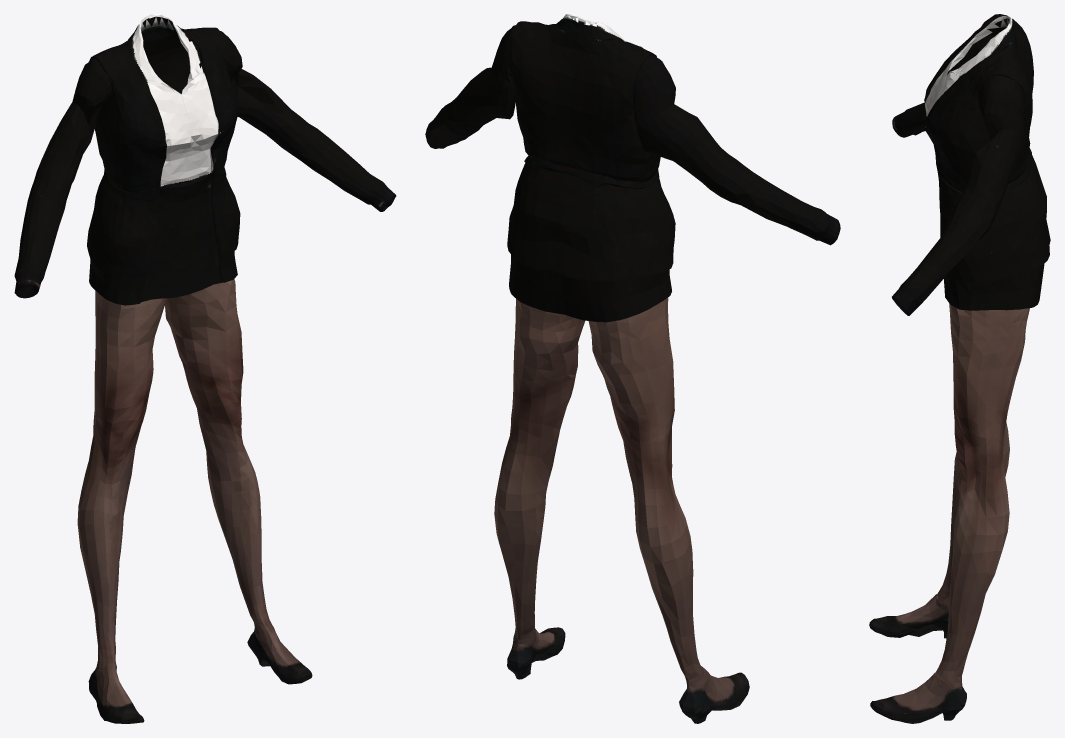
File: ewm_t2locke_outfit.glb
The picture shows the model from 3 angles, left to right: view 1: azimuth 30°, elevation 25°; view 2: azimuth 150°, elevation 25°; view 3: azimuth 270°, elevation 25°; orthographic projection. The views are drawn at different scales.
Parts seen in each view (by area): view 1: ewm_t2locke_outfit; view 2: ewm_t2locke_outfit; view 3: ewm_t2locke_outfit.
Boxes of the visible parts, x1=… form: ewm_t2locke_outfit: x1=14, y1=14, x2=396, y2=723; ewm_t2locke_outfit: x1=425, y1=14, x2=840, y2=723; ewm_t2locke_outfit: x1=869, y1=14, x2=1050, y2=723.
Bounding box in the file's own units: 1.02 × 1.66 × 0.4149.
Materials: 1 (1 with a texture image).
